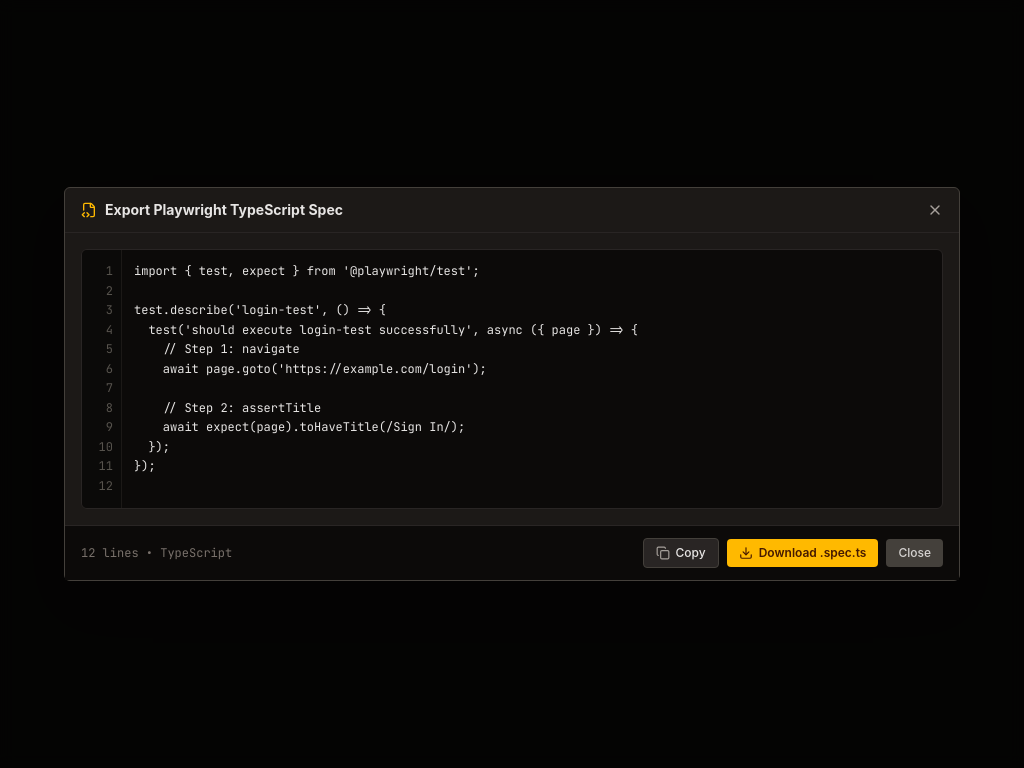
it: PlaywrightExportModal › handles copy button click and shows copied state
Click the button "Copy" at (681, 553), box [642,538,719,568]
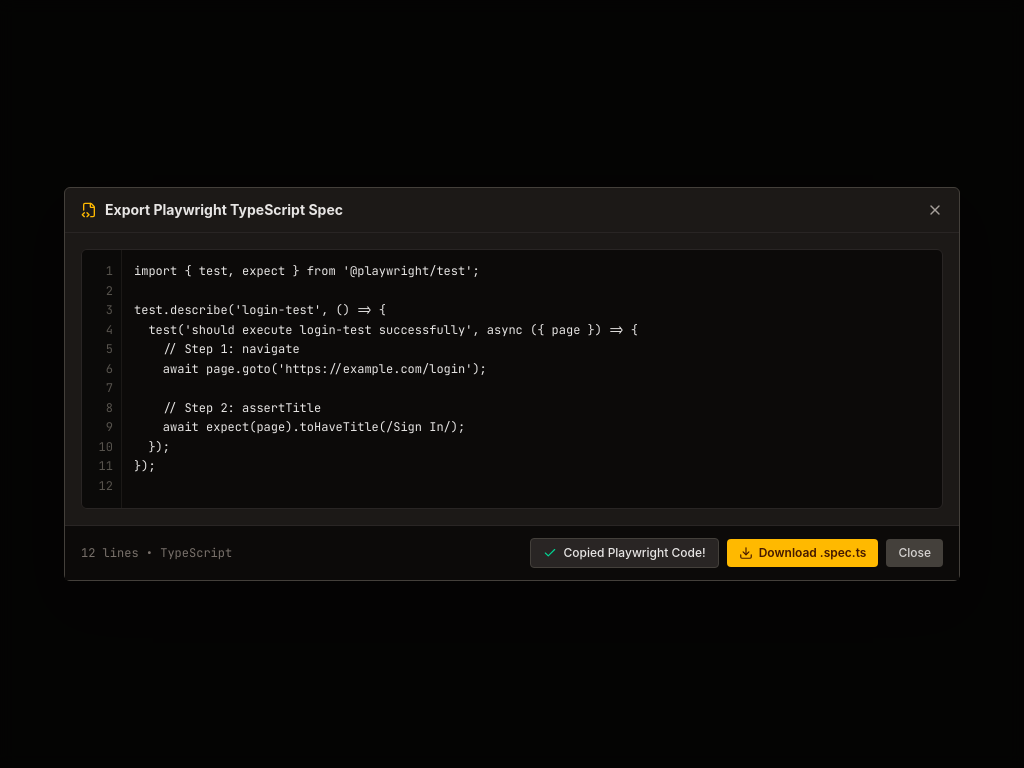
Expected: the text "Copied Playwright Code!" is shown, [564,545,706,561]
